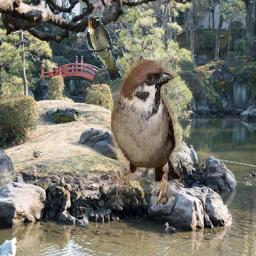Sparrow: (112, 61, 181, 206)
Swallow: (86, 13, 122, 81)
